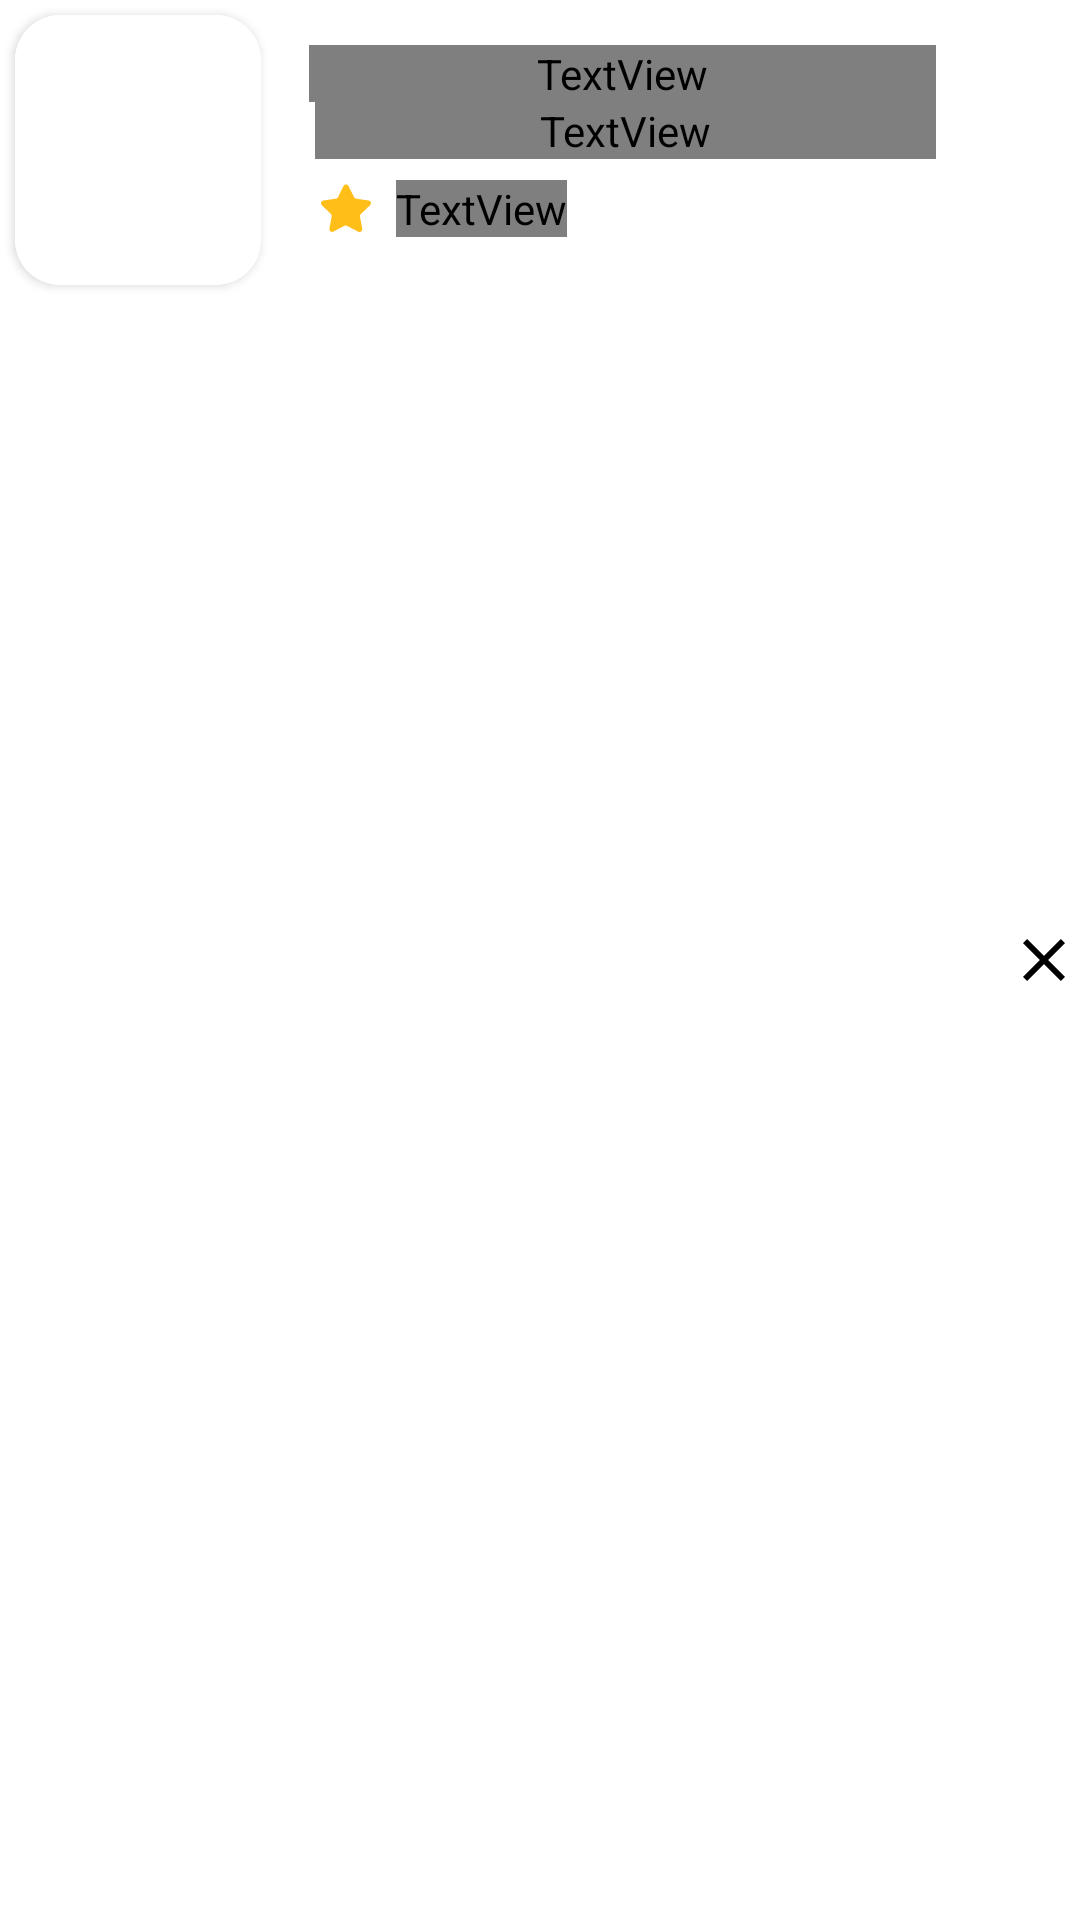

Screen size 1080px x 1920px. Icon name, then its center in pixels as [x,y]:
close: [1044,960]
star: [346,208]
